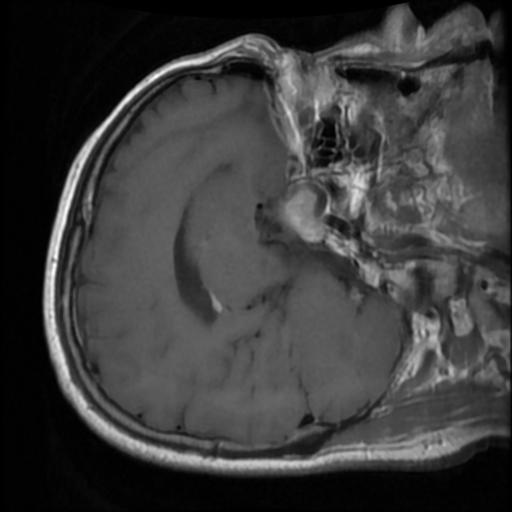pituitary tumour: (280, 186, 329, 244)
